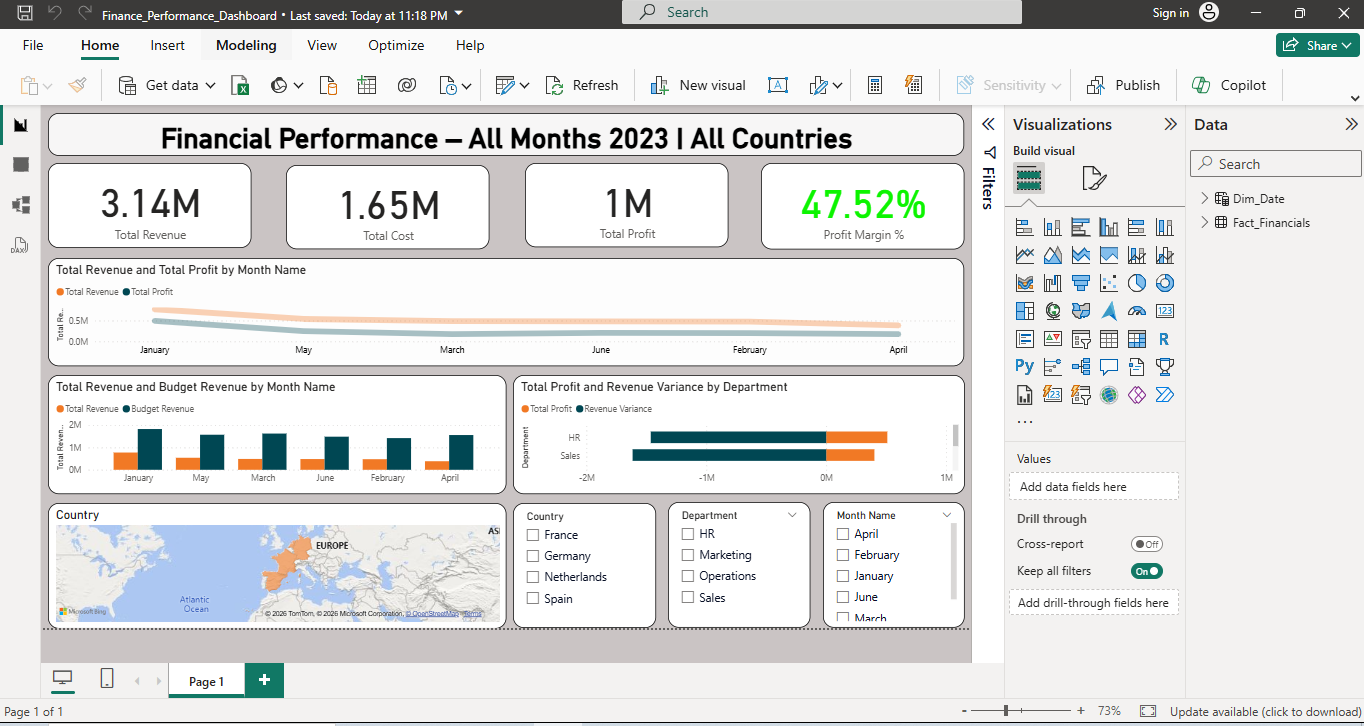

Layout of this report page (visuals, bound fields, positions):
{"tool":"powerbi","page":{"name":"Page 1","canvas":[1280,720],"ordinal":0},"visuals":[{"type":"card","fields":{"Values":["Fact_Finance.Total Revenue"]},"box":[10,79.8,280,117],"z":0},{"type":"card","fields":{"Values":["Fact_Finance.Total Cost"]},"box":[336.7,82,280.3,116.2],"z":1000},{"type":"card","fields":{"Values":["Fact_Finance.Profit Margin %"]},"box":[991.1,80.1,280.3,118.7],"z":2000},{"type":"lineChart","fields":{"Category":["Calendar.Month Name"],"Y":["Fact_Finance.Total Revenue","Fact_Finance.Total Profit"]},"box":[10,210.2,1261.4,148.7],"z":3000},{"type":"card","fields":{"Values":["Fact_Finance.Total Profit"]},"box":[666.5,80.3,280.3,116.2],"z":4000},{"type":"clusteredColumnChart","fields":{"Category":["Calendar.Month Name"],"Y":["Fact_Finance.Total Revenue","Fact_Finance.Budget Revenue"]},"box":[10,371.8,630.7,164.5],"z":5000},{"type":"barChart","fields":{"Category":["Fact_Finance.Department"],"Y":["Fact_Finance.Total Profit","Fact_Finance.Revenue Variance"]},"box":[649.3,371.8,622.1,164.5],"z":6000},{"type":"filledMap","fields":{"Category":["Fact_Finance.Country"]},"box":[10,547.8,630.7,173.1],"z":7000},{"type":"slicer","fields":{"Values":["Fact_Finance.Country"]},"box":[649.8,548.1,196.9,172.3],"z":8000},{"type":"slicer","fields":{"Values":["Fact_Finance.Department"]},"box":[862.4,546.3,195.9,173.1],"z":9000},{"type":"slicer","fields":{"Values":["Calendar.Month Name"]},"box":[1076.3,546.4,195.4,173.4],"z":10000},{"type":"card","fields":{"Values":["Calendar.Dynamic Title"]},"box":[9.6,11,1260.7,59.2],"z":11000}]}

Visuals, with their boxes on the page's 1280x720 design canvas (x1, y1, x2, y2). These are canvas units, not pixel positions in the 1364x726 screenshot, which may show the page scaled, cropped or inside an application window:
card - Fact_Finance.Total Revenue: 10 80 290 197
card - Fact_Finance.Total Cost: 337 82 617 198
card - Fact_Finance.Profit Margin %: 991 80 1271 199
lineChart - Calendar.Month Name x Fact_Finance.Total Revenue: 10 210 1271 359
card - Fact_Finance.Total Profit: 666 80 947 196
clusteredColumnChart - Calendar.Month Name x Fact_Finance.Total Revenue: 10 372 641 536
barChart - Fact_Finance.Department x Fact_Finance.Total Profit: 649 372 1271 536
filledMap - Fact_Finance.Country: 10 548 641 721
slicer - Fact_Finance.Country: 650 548 847 720
slicer - Fact_Finance.Department: 862 546 1058 719
slicer - Calendar.Month Name: 1076 546 1272 720
card - Calendar.Dynamic Title: 10 11 1270 70
